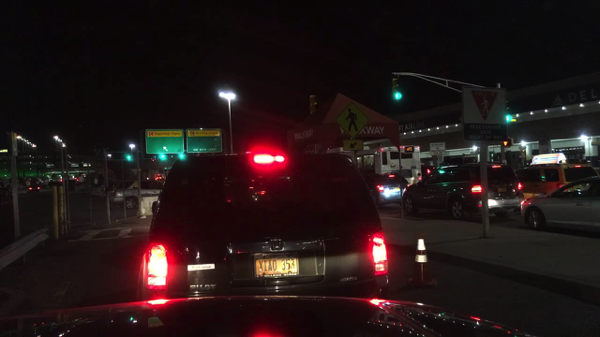bus: (374, 144, 420, 188)
car: (137, 152, 388, 302), (403, 162, 524, 221), (519, 176, 599, 234), (514, 152, 599, 201), (365, 173, 410, 207), (92, 182, 112, 197), (116, 180, 138, 193), (420, 164, 436, 179), (49, 177, 63, 189), (65, 178, 77, 191), (27, 183, 40, 194), (76, 175, 87, 183)
traffic light: (390, 77, 402, 103), (504, 102, 511, 122), (501, 136, 513, 147), (125, 154, 133, 161), (158, 154, 166, 160), (178, 154, 186, 160)
traffic sign: (461, 86, 506, 145), (334, 102, 369, 138), (147, 128, 184, 154), (185, 128, 221, 154), (343, 139, 363, 150), (428, 142, 444, 155)
truck: (112, 178, 164, 212)
